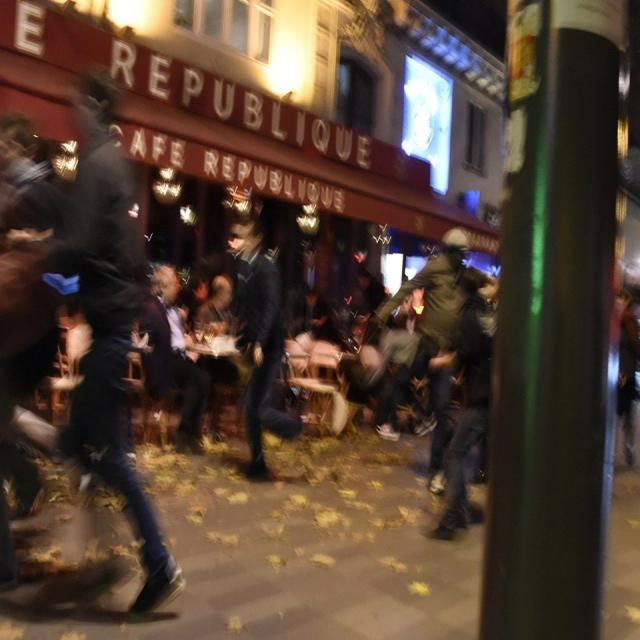body: (5, 61, 190, 623), (146, 248, 432, 437), (371, 223, 492, 502), (1, 111, 64, 539), (423, 270, 516, 543), (227, 214, 304, 486), (138, 258, 217, 465), (4, 444, 56, 561), (610, 285, 640, 473), (195, 273, 235, 332)
